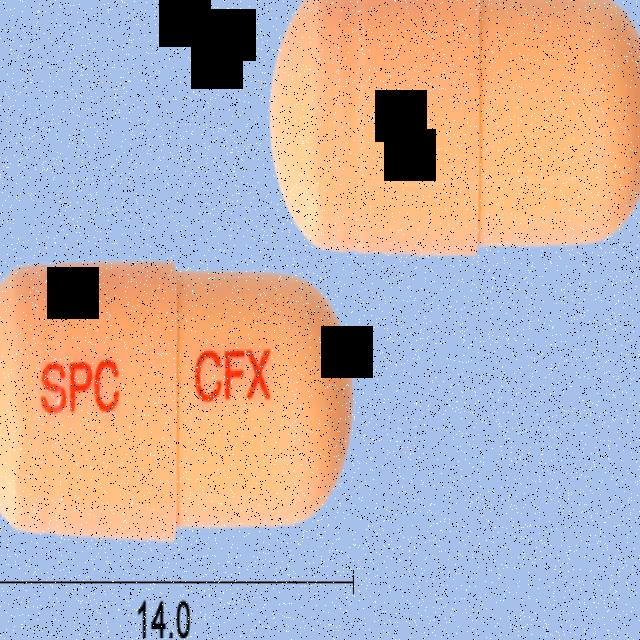Seoul Cefixime Cap: (0, 262, 353, 542)
